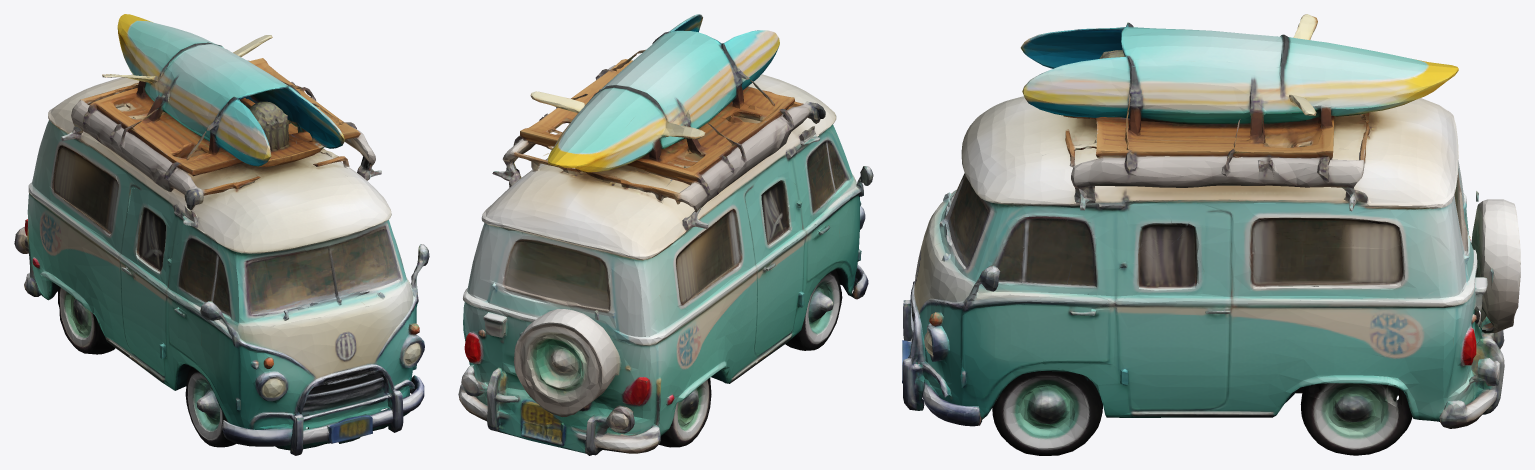
Rendered from retro_camper_van.glb.
3 renders of one model, left to right at view 1: azimuth 30°, elevation 25°; view 2: azimuth 150°, elevation 25°; view 3: azimuth 270°, elevation 25°, orthographic. The views are drawn at different scales.
Visible parts, largest first — view 1: world; view 2: world; view 3: world.
Boxes of the visible parts, x1,y1,x2,y2 form: world: [14, 14, 429, 455]; world: [458, 14, 873, 455]; world: [902, 14, 1520, 455].
Bounding box in the file's own units: 0.5101 × 0.6688 × 0.9962.
1 material, 1 textured.
